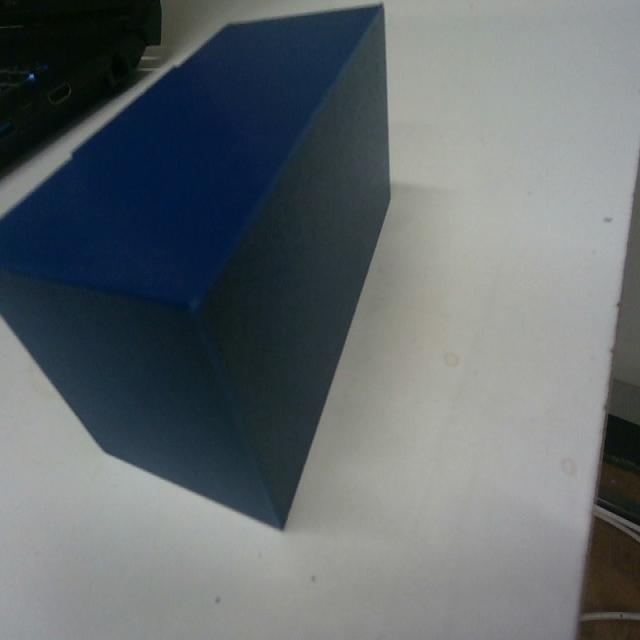Blue Cuboid: (0, 1, 393, 532)
